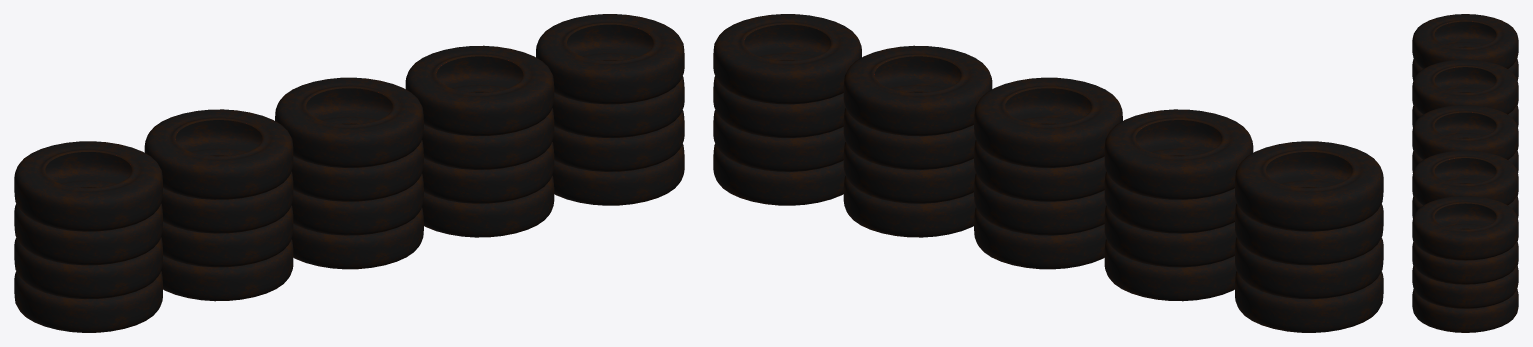
File: TireBarrier_4.fbx
3 views of the same model, side by side, from view 1: azimuth 30°, elevation 25°; view 2: azimuth 150°, elevation 25°; view 3: azimuth 270°, elevation 25° (orthographic). The views are drawn at different scales.
Visible parts, largest first — view 1: TireBarrier_4; view 2: TireBarrier_4; view 3: TireBarrier_4.
Part boxes in pixels (x1,y1,x2,y2): TireBarrier_4: (14,14,684,332); TireBarrier_4: (713,14,1383,332); TireBarrier_4: (1412,14,1518,332).
Size of the model in its own units: 2.9 by 0.5777 by 0.576.
1 material, 1 textured.
